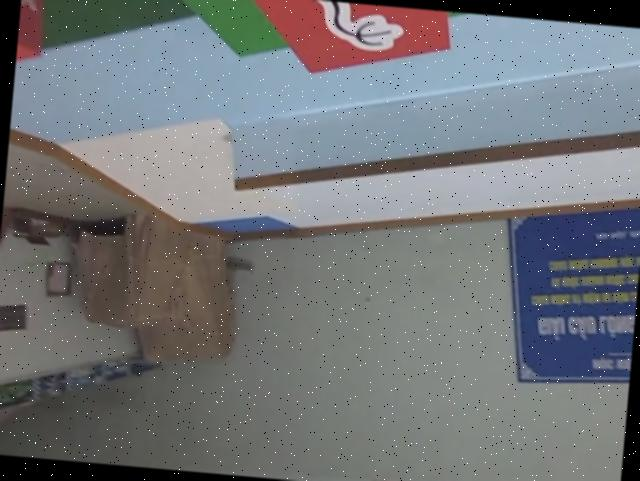R2 Real: (220, 0, 457, 92)
